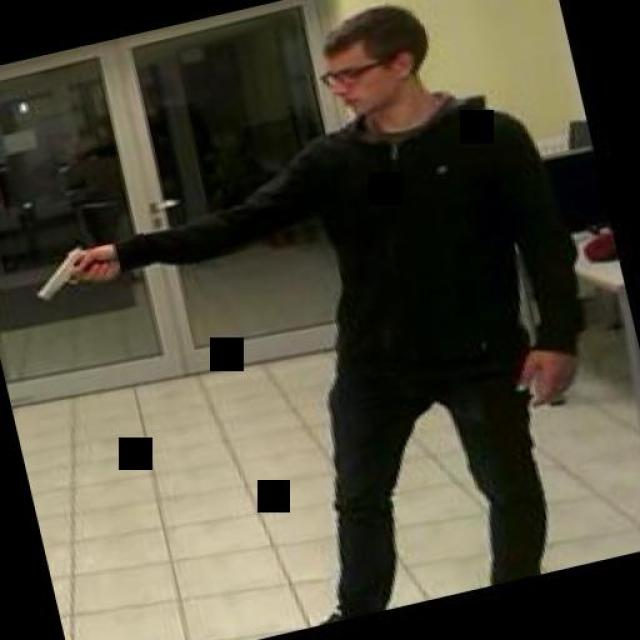gun: (20, 238, 121, 308)
